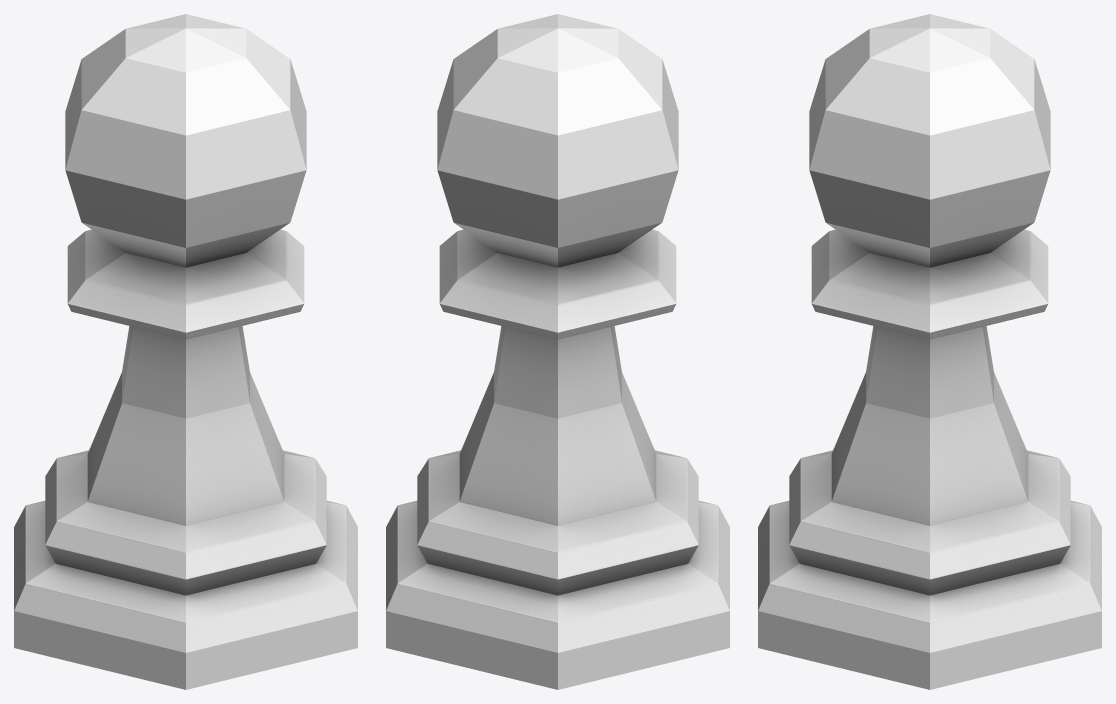
File: brokenpawn.fbx
3 renders of one model, left to right at view 1: azimuth 30°, elevation 25°; view 2: azimuth 150°, elevation 25°; view 3: azimuth 270°, elevation 25°, orthographic.
Visible parts, largest first — view 1: Pawn.009, Pawn.010, Pawn.004, Pawn.003, Pawn.005, Pawn.001, Pawn.032, Pawn.008, Pawn.006, Pawn.007; view 2: Pawn.001, Pawn.008, Pawn.005, Pawn.007, Pawn.003, Pawn.004, Pawn.010, Pawn.009, Pawn.032, Pawn.006; view 3: Pawn.032, Pawn.003, Pawn.010, Pawn.006, Pawn.009, Pawn.004, Pawn.008, Pawn.007, Pawn.005, Pawn.001.
Boxes of the visible parts, x1=… form: Pawn.009: x1=67, y1=229, x2=304, y2=557; Pawn.010: x1=79, y1=471, x2=357, y2=689; Pawn.004: x1=65, y1=64, x2=304, y2=279; Pawn.003: x1=92, y1=14, x2=306, y2=174; Pawn.005: x1=54, y1=340, x2=221, y2=570; Pawn.001: x1=14, y1=462, x2=212, y2=663; Pawn.032: x1=271, y1=424, x2=357, y2=596; Pawn.008: x1=67, y1=229, x2=131, y2=351; Pawn.006: x1=241, y1=257, x2=304, y2=463; Pawn.007: x1=65, y1=51, x2=93, y2=137; Pawn.001: x1=442, y1=471, x2=729, y2=689; Pawn.008: x1=425, y1=240, x2=647, y2=556; Pawn.005: x1=510, y1=338, x2=694, y2=557; Pawn.007: x1=437, y1=112, x2=613, y2=265; Pawn.003: x1=437, y1=14, x2=666, y2=138; Pawn.004: x1=437, y1=74, x2=678, y2=277; Pawn.010: x1=386, y1=479, x2=729, y2=682; Pawn.009: x1=439, y1=229, x2=676, y2=372; Pawn.032: x1=386, y1=425, x2=471, y2=579; Pawn.006: x1=451, y1=326, x2=504, y2=493; Pawn.032: x1=785, y1=476, x2=1038, y2=689; Pawn.003: x1=809, y1=14, x2=1041, y2=208; Pawn.010: x1=758, y1=475, x2=1101, y2=663; Pawn.006: x1=860, y1=316, x2=1009, y2=514; Pawn.009: x1=795, y1=229, x2=958, y2=484; Pawn.004: x1=809, y1=75, x2=994, y2=279; Pawn.008: x1=958, y1=229, x2=1070, y2=535; Pawn.007: x1=995, y1=52, x2=1050, y2=249; Pawn.005: x1=790, y1=338, x2=1065, y2=491; Pawn.001: x1=788, y1=462, x2=1101, y2=563.
Bounding box in the file's own units: 75.59 × 121 × 65.46.
